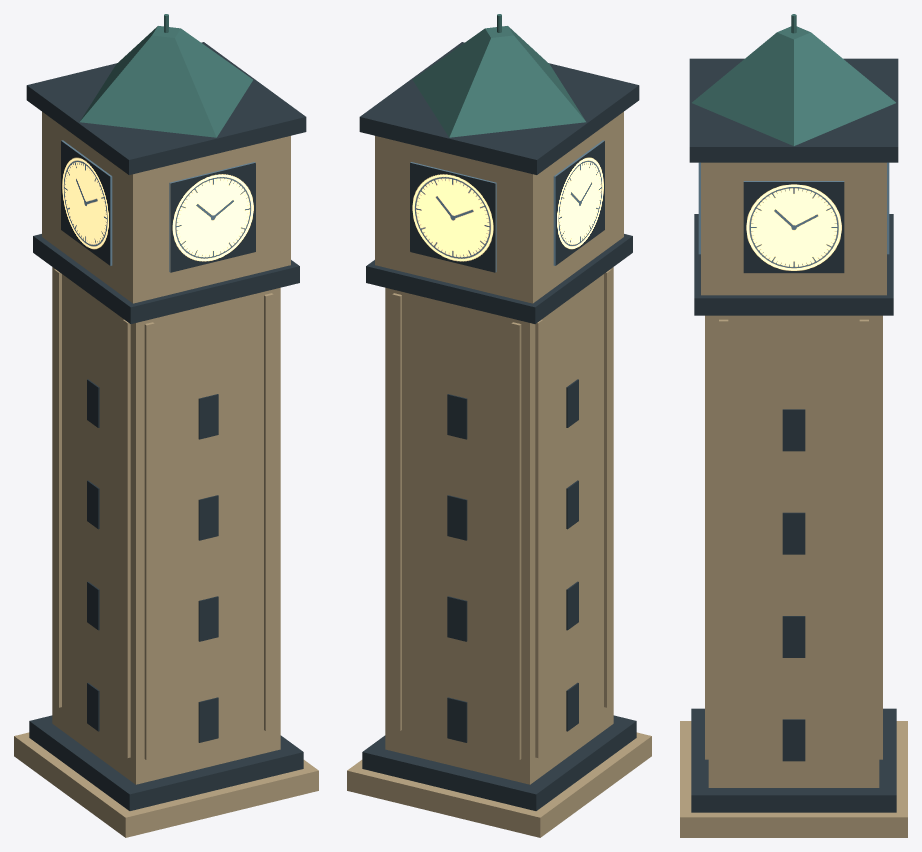
File: landmark_clock_tower.glb
3 views of the same model, side by side, from view 1: azimuth 30°, elevation 25°; view 2: azimuth 150°, elevation 25°; view 3: azimuth 270°, elevation 25° (orthographic). The views are drawn at different scales.
Parts seen in each view (by area): view 1: landmark_clock_tower_lod0; view 2: landmark_clock_tower_lod0; view 3: landmark_clock_tower_lod0.
Part boxes in pixels (box(x1,y1,x2,y2)): landmark_clock_tower_lod0: box(14, 14, 318, 837); landmark_clock_tower_lod0: box(347, 14, 651, 837); landmark_clock_tower_lod0: box(680, 14, 907, 837).
Size of what is drawn, in the model's own units: 12 by 45 by 12.
1 material, 1 textured.
